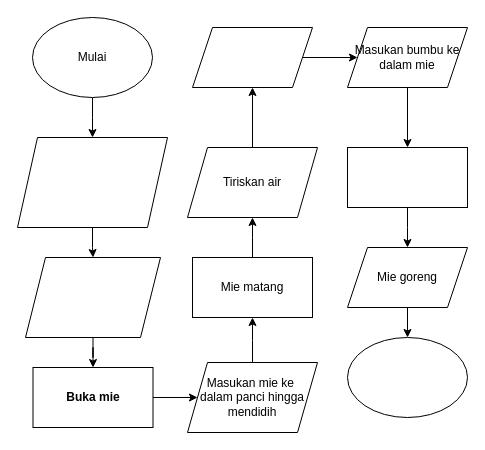
Some shapes in this 485 by 450 pixel diagram are drawn without their labels. Each missing label, with the centre of its shape:
Aduk mie hingga rata: point 407,177
Masak air di dalam panci hingga mendidih: point 92,297
Menyiapkan panci, air, sendok, piring, sebungkus mie: point 92,182
Tuangkan mie ke dalam piring: point 252,57
